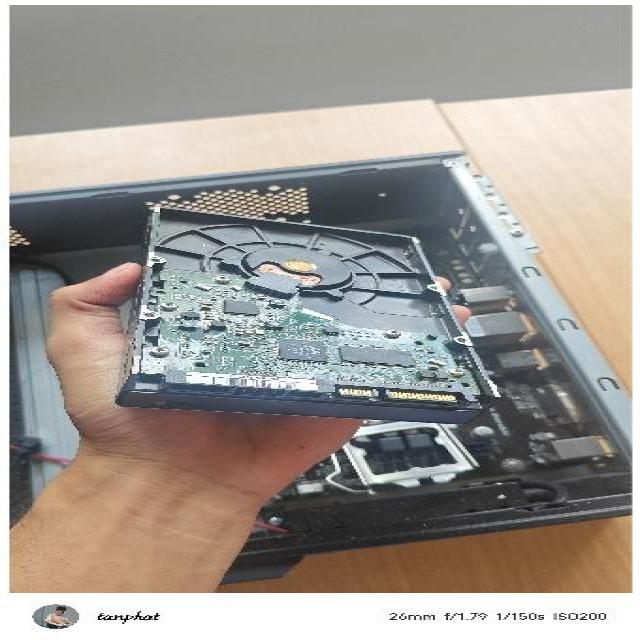DISK: (112, 195, 504, 426)
